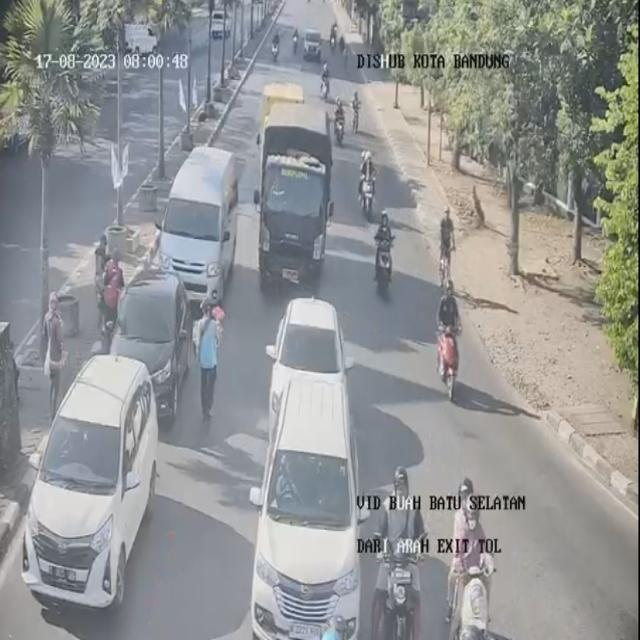bus: (157, 141, 237, 302)
cars: (19, 348, 160, 608), (250, 377, 353, 639), (112, 269, 194, 411), (273, 300, 350, 410), (304, 21, 320, 69)
motorcycle: (369, 454, 444, 632), (453, 471, 494, 640), (430, 277, 474, 390), (371, 208, 398, 282), (356, 146, 373, 208), (317, 67, 336, 107), (334, 94, 348, 145), (269, 26, 282, 64), (326, 26, 343, 50), (290, 26, 301, 52)
truck: (262, 107, 332, 279), (266, 78, 302, 129)
